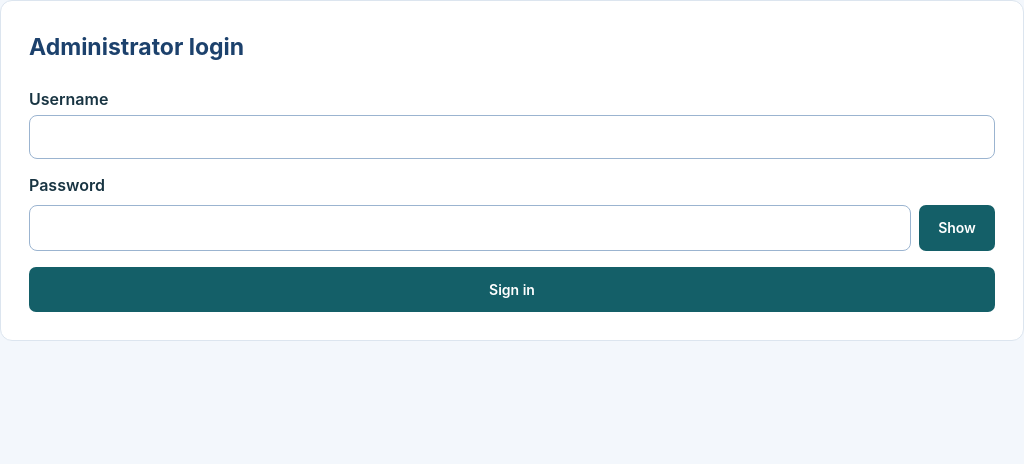
Test: says what is wrong with the entry before sending anything, without repeating it
The image size is (1024, 464).
Click the button "Sign in" at [512, 289], box [29, 267, 995, 312]
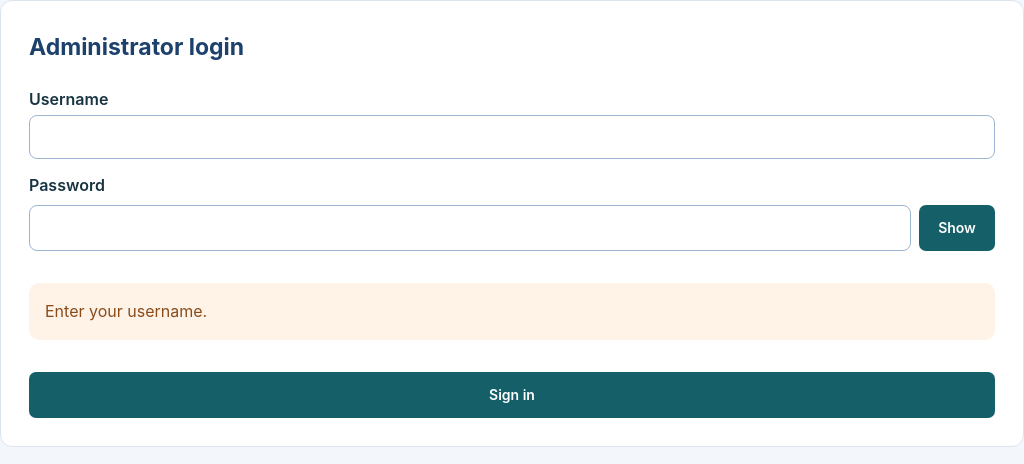
Expected: the message reads "Enter your username.", [45, 301, 207, 321]
Type "Test.Admin" into the field labelled "Username" at [512, 137], box [29, 115, 995, 159]
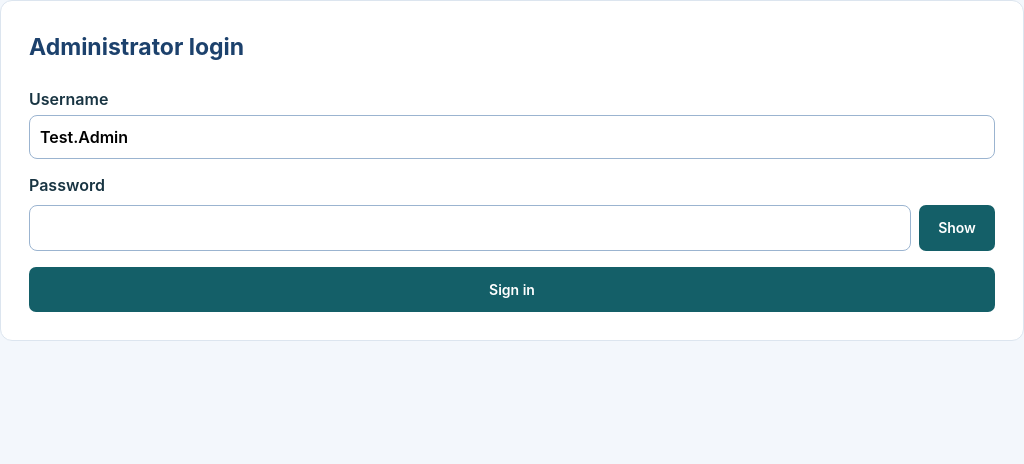
Click the button "Sign in" at [512, 289], box [29, 267, 995, 312]
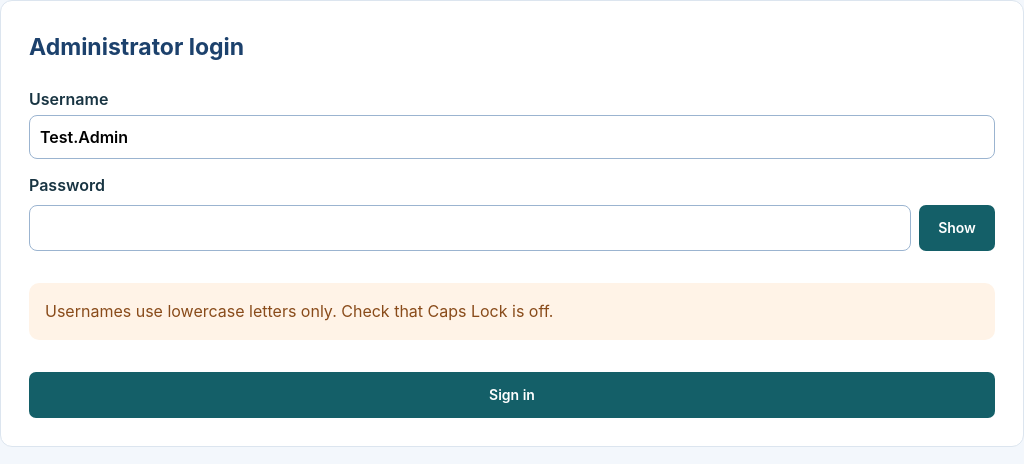
Expected: the message reads "Usernames use lowercase letters only. Check that Caps Lock is off.", [45, 301, 553, 321]
Replace the text in the field labelled "Username" with "test.admin" at [512, 137], box [29, 115, 995, 159]
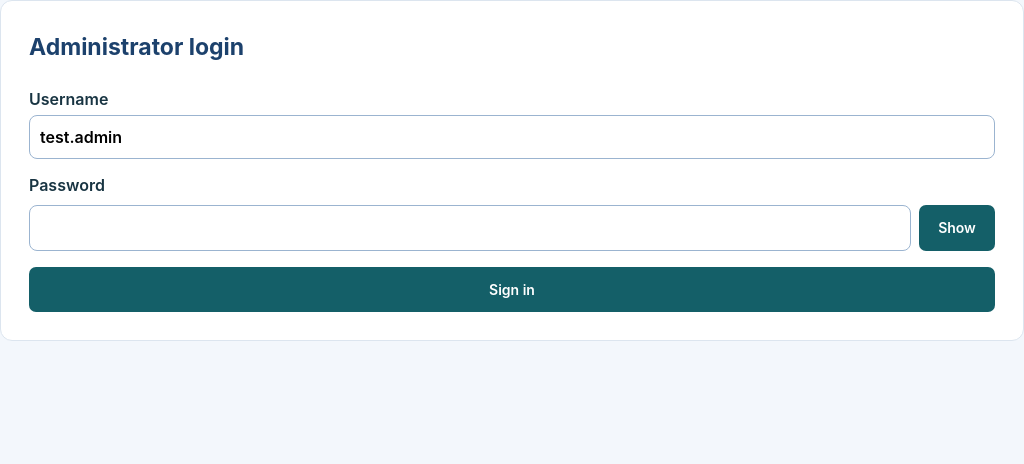
Click the button "Sign in" at [512, 289], box [29, 267, 995, 312]
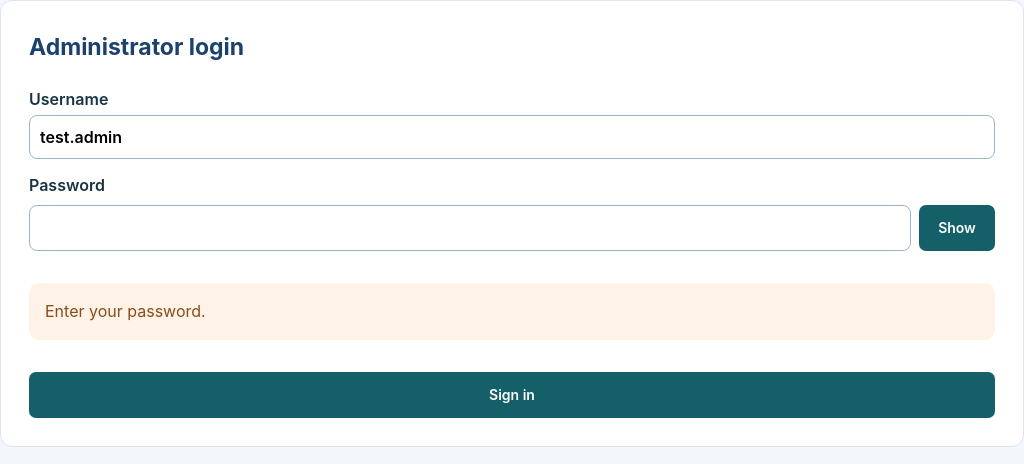
Expected: the text "Test.Admin" is not shown
Expected: the message reads "Enter your password.", [45, 301, 206, 321]
